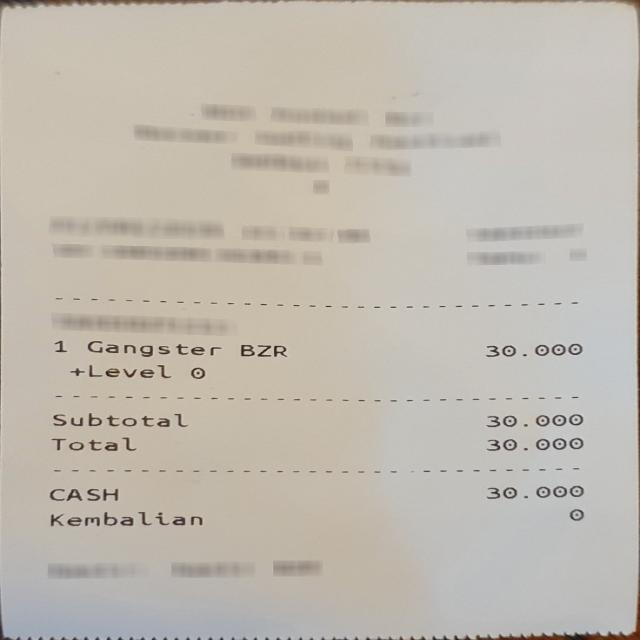kertas: (2, 2, 635, 636)
